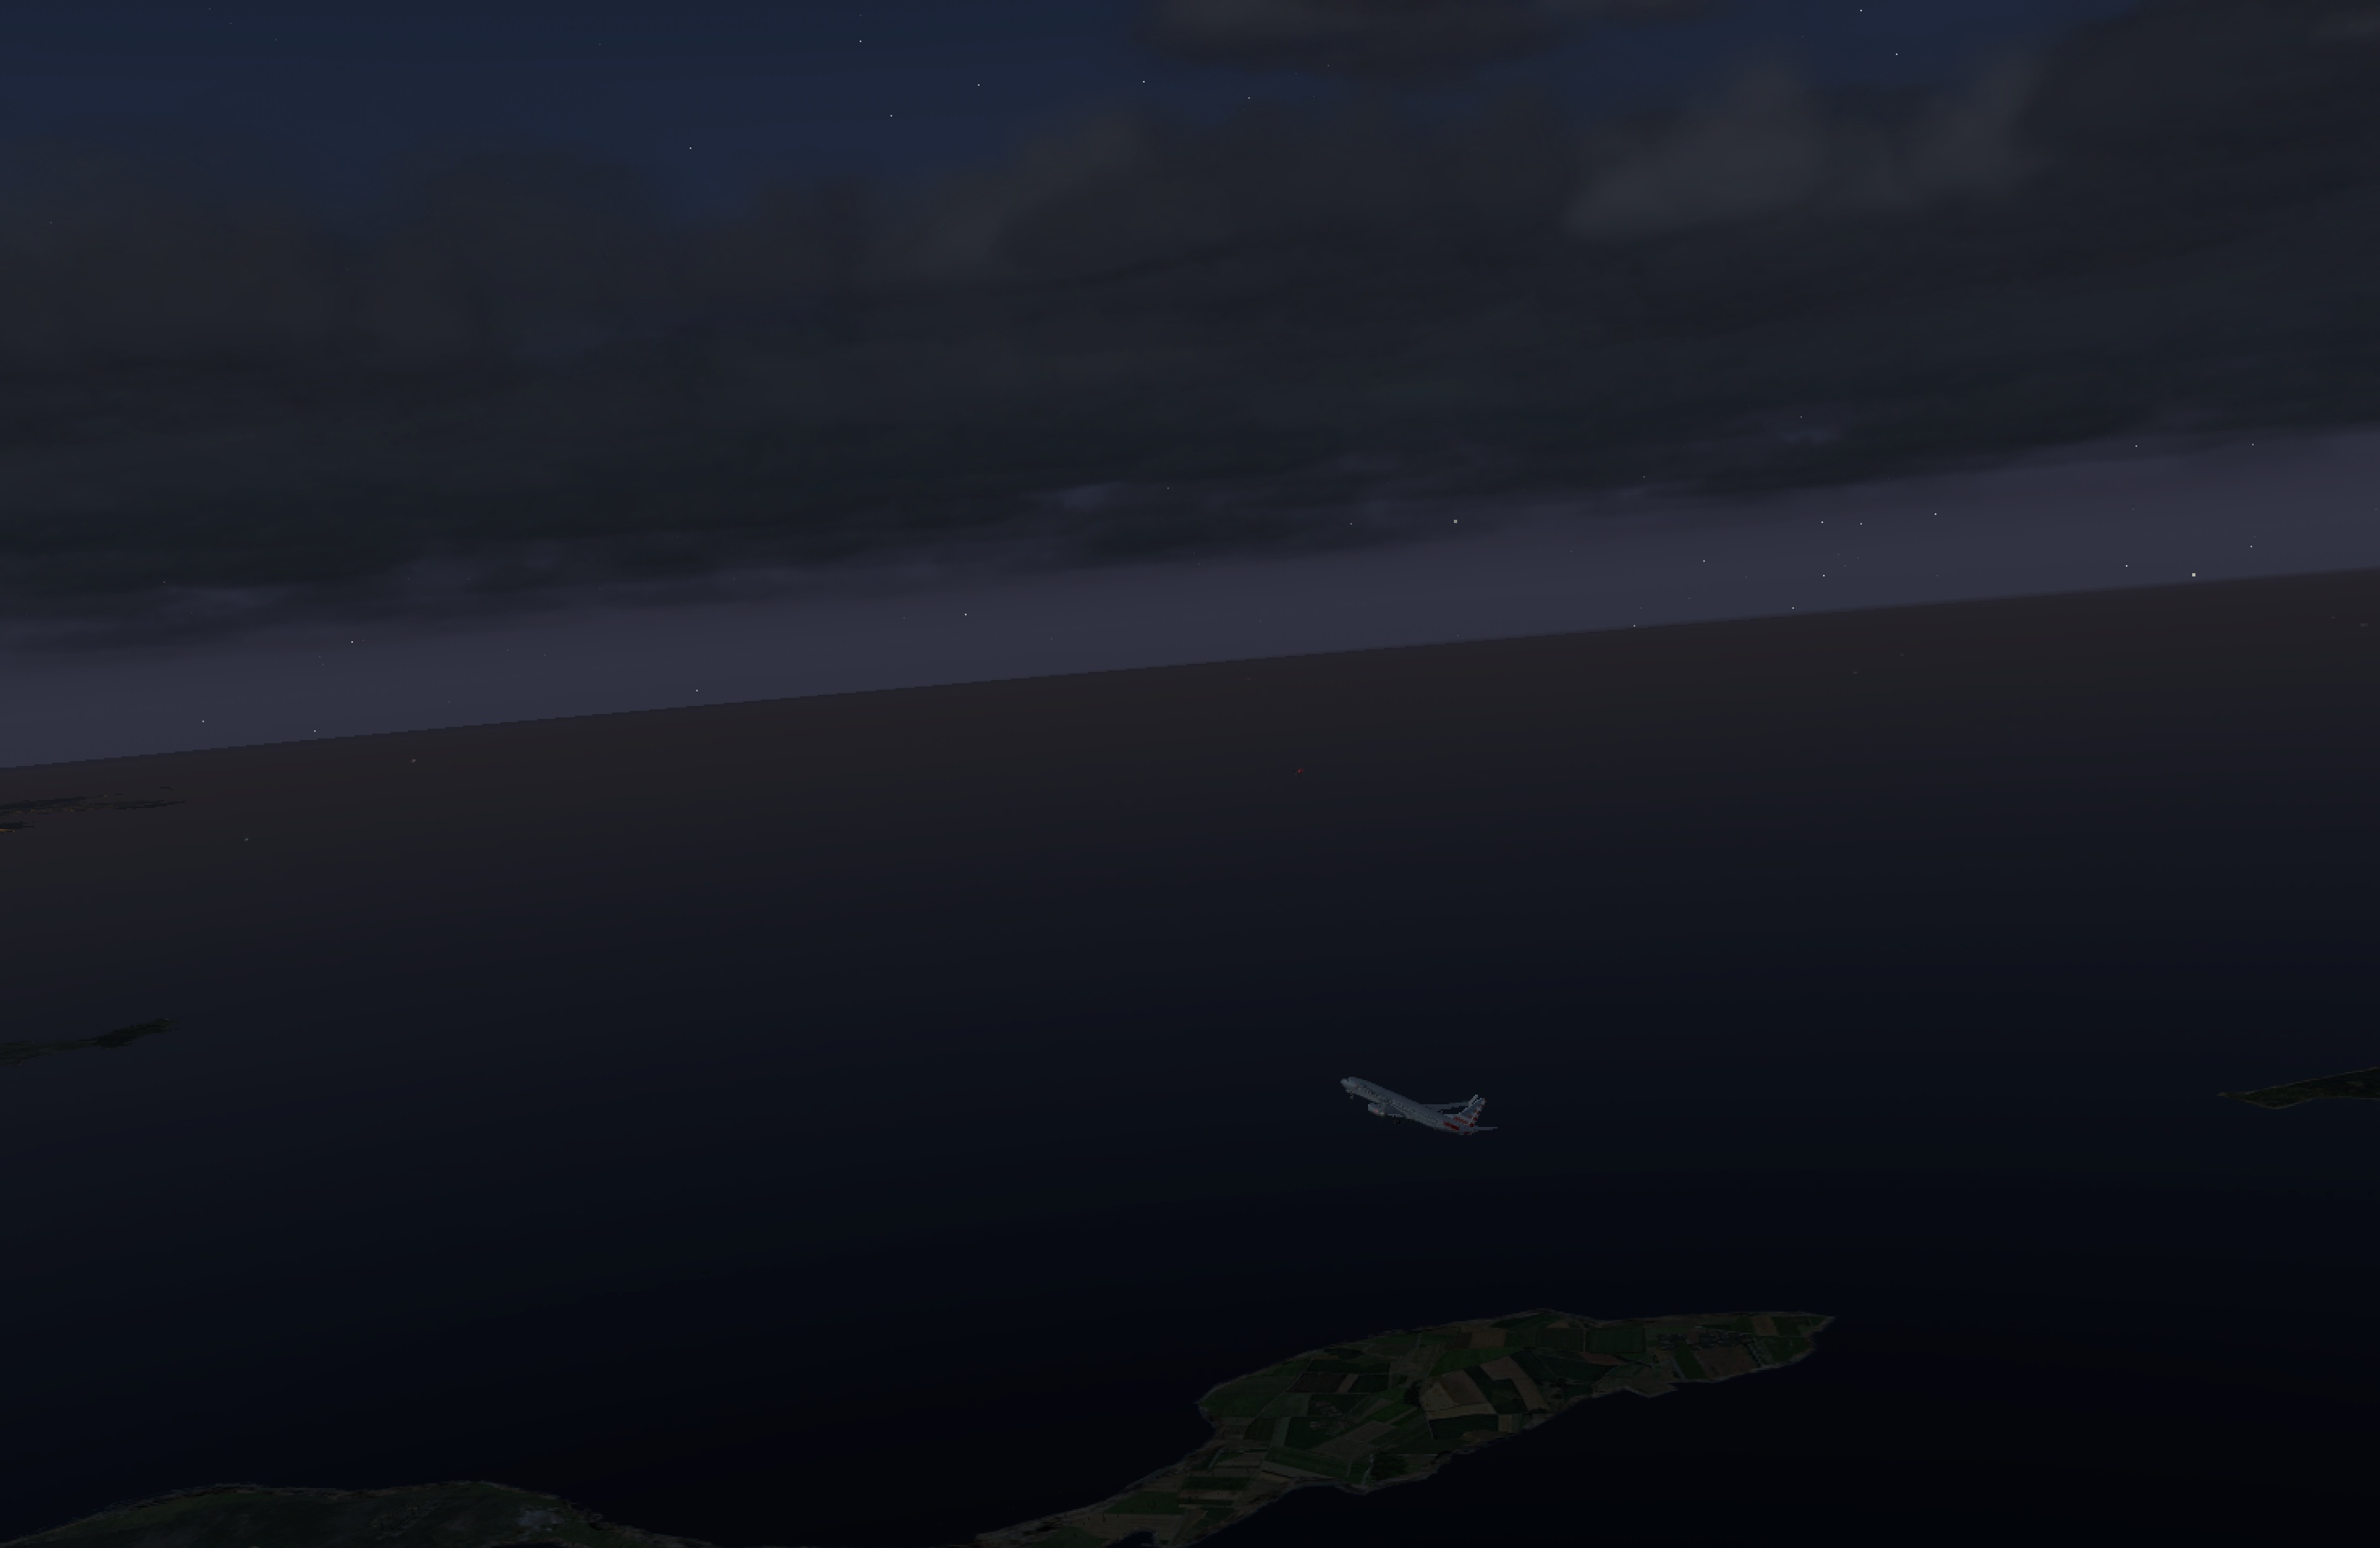aircraft: (1317, 1076, 1488, 1140)
